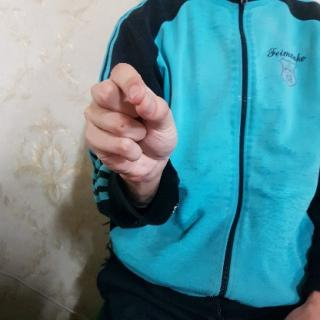FAA: (82, 62, 181, 186)
